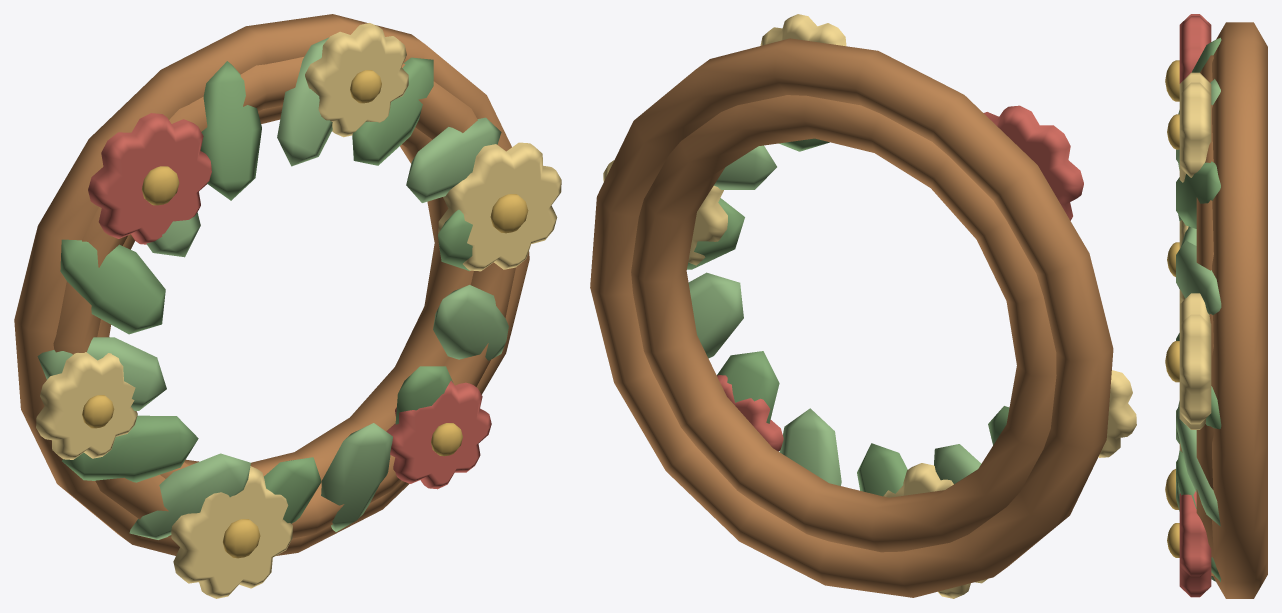
File: cosmos_wreath.glb
3 renders of one model, left to right at view 1: azimuth 30°, elevation 25°; view 2: azimuth 150°, elevation 25°; view 3: azimuth 270°, elevation 25°, orthographic. The views are drawn at different scales.
Parts seen in each view (by area): view 1: cosmos_wreath_mesh; view 2: cosmos_wreath_mesh; view 3: cosmos_wreath_mesh.
Boxes of the visible parts, x1,y1,x2,y2 form: cosmos_wreath_mesh: (14,14,561,598); cosmos_wreath_mesh: (590,14,1136,598); cosmos_wreath_mesh: (1165,14,1267,598).
Bounding box in the file's own units: 0.4698 × 0.4608 × 0.0809.
